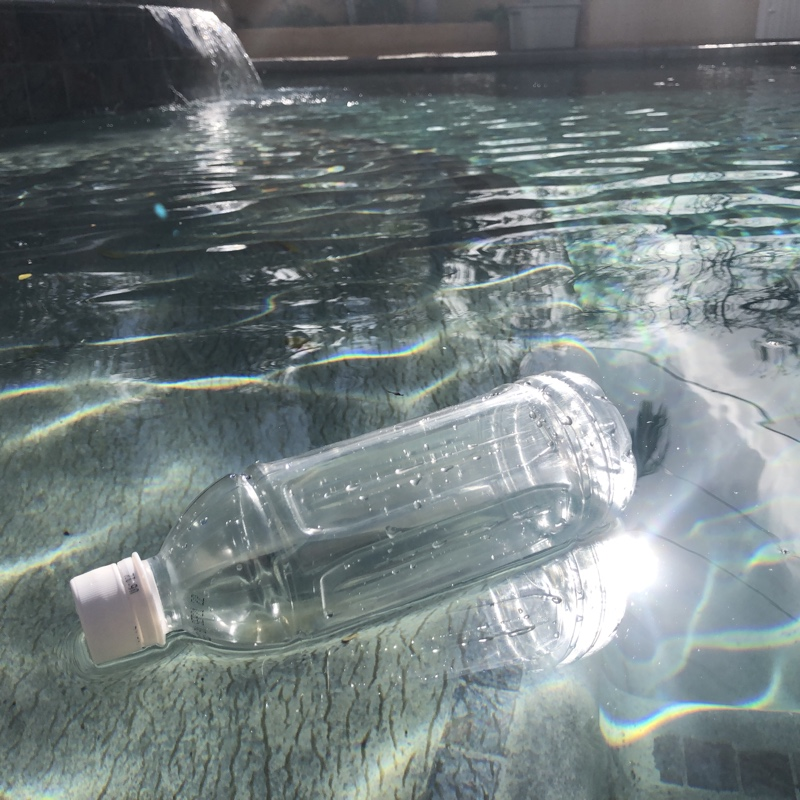Plastic Bottle: (61, 365, 647, 675)
